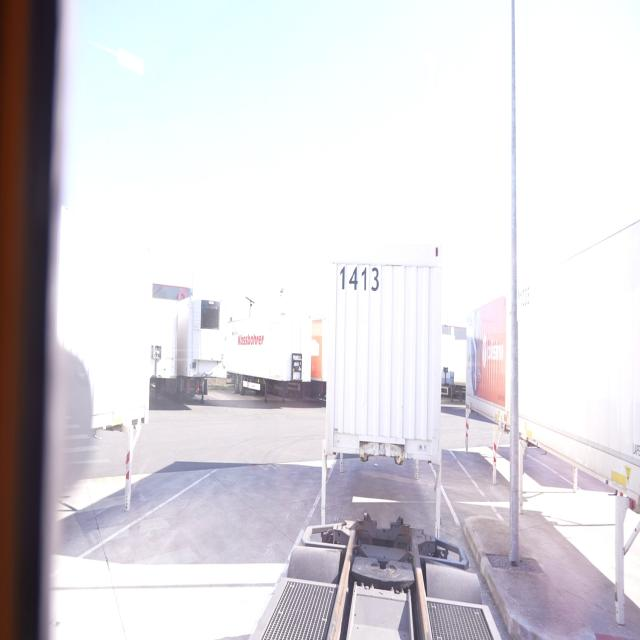Code: (339, 257, 382, 292)
